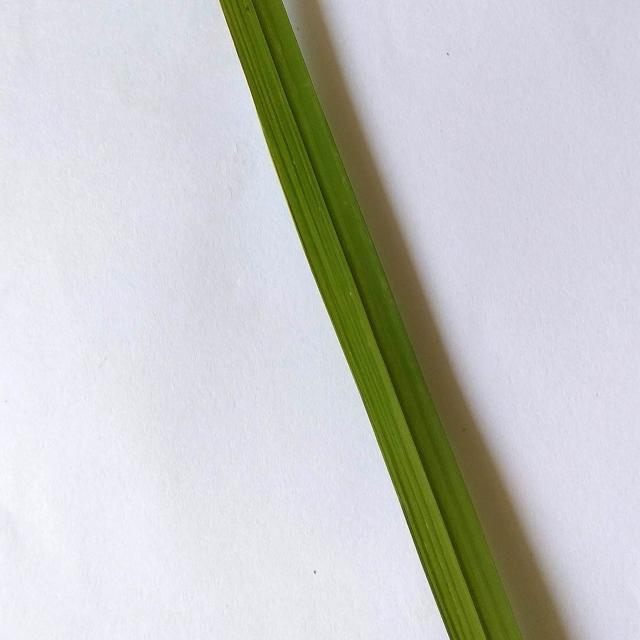Rice_Healthy: (220, 0, 522, 640)
